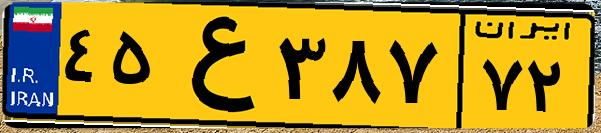2: (525, 38, 570, 115)
3: (270, 28, 330, 110)
4: (57, 26, 110, 100)
5: (110, 28, 158, 98)
7: (385, 28, 445, 110), (475, 38, 525, 113)
8: (330, 28, 385, 110)
ع: (158, 12, 270, 120)
